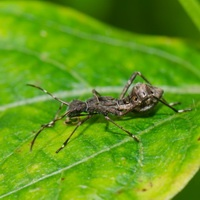insect: (27, 71, 191, 152)
